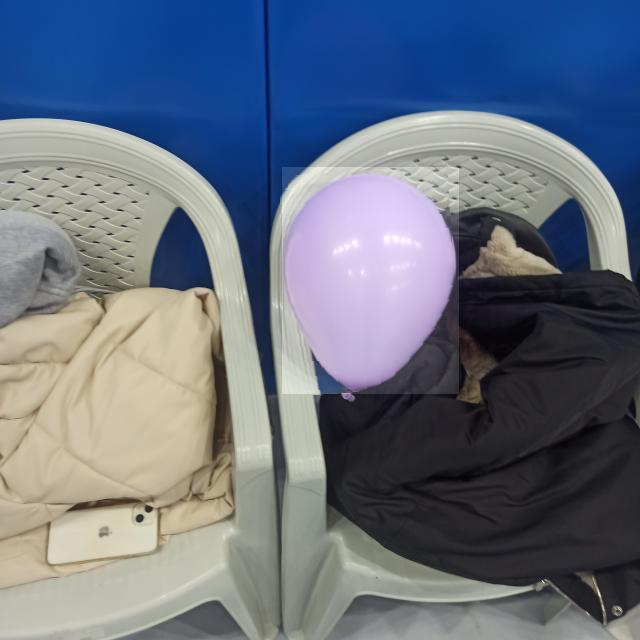balloon: (282, 167, 459, 394)
